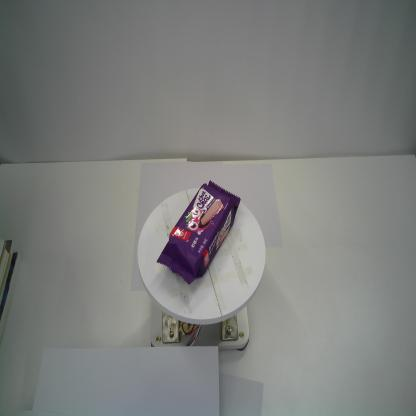Dessert: (157, 179, 242, 286)
